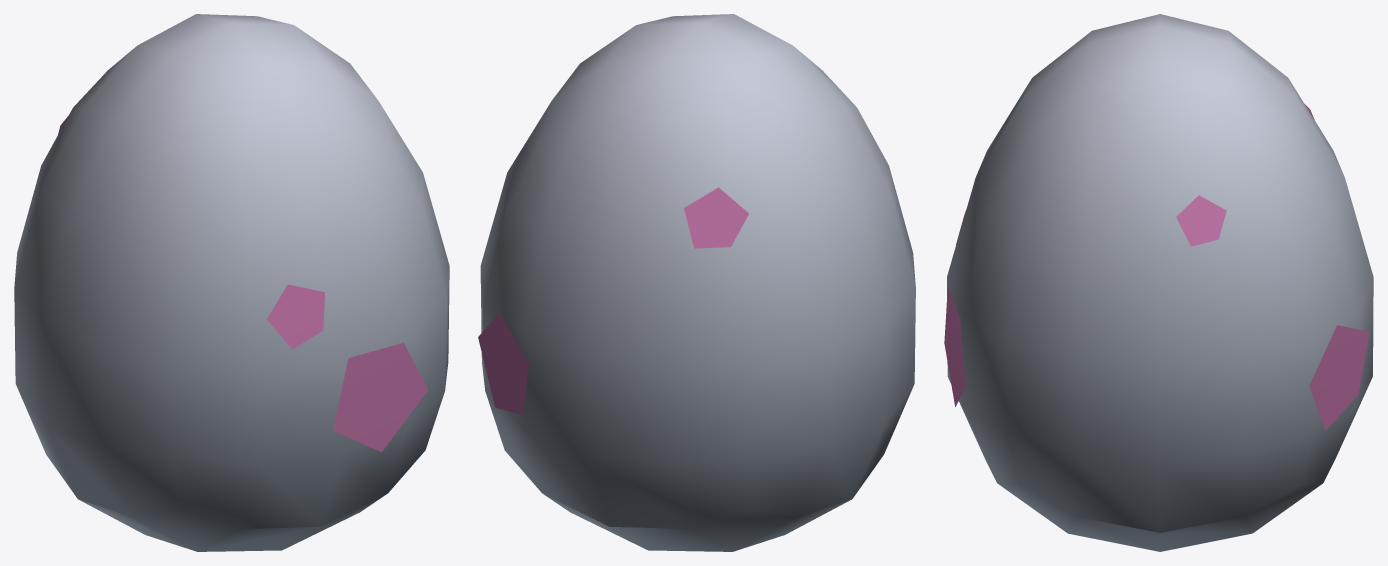
The model's file is egg.glb.
3 renders of one model, left to right at view 1: azimuth 30°, elevation 25°; view 2: azimuth 150°, elevation 25°; view 3: azimuth 270°, elevation 25°, orthographic.
Visible parts, largest first — view 1: egg; view 2: egg; view 3: egg.
Boxes of the visible parts, left/top/right/bottom form: egg: left=14, top=14, right=449, bottom=551; egg: left=478, top=14, right=915, bottom=551; egg: left=944, top=14, right=1373, bottom=551.
Bounding box in the file's own units: 0.4251 × 0.5506 × 0.4276.
1 material, 1 textured.
